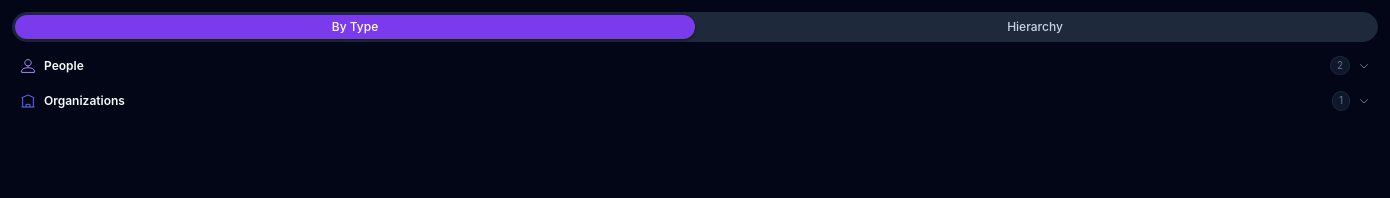
By Type: click expanded section header collapses it
Click the text "People": (64, 65) [44,58,84,73]
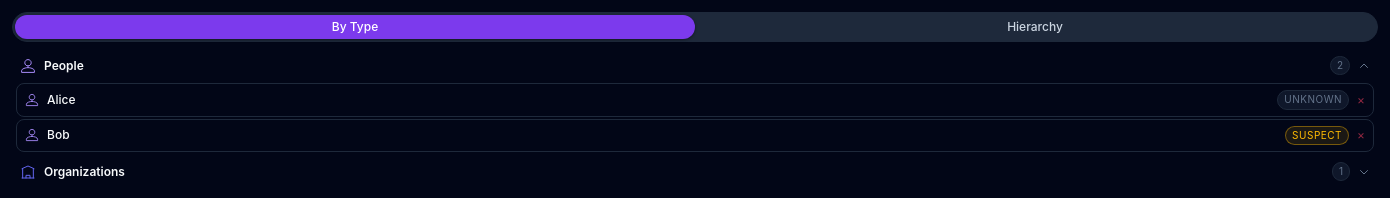
Expected: the button "Alice" is shown, [47,92,1269,108]
Click the text "People": (64, 65) [44,58,84,73]
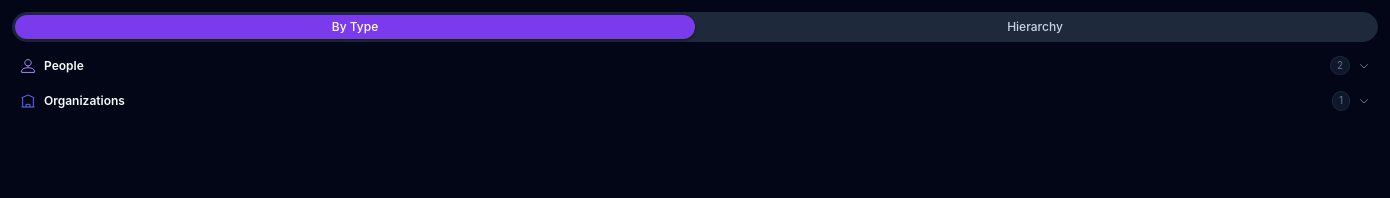
Expected: the button "Alice" is gone
